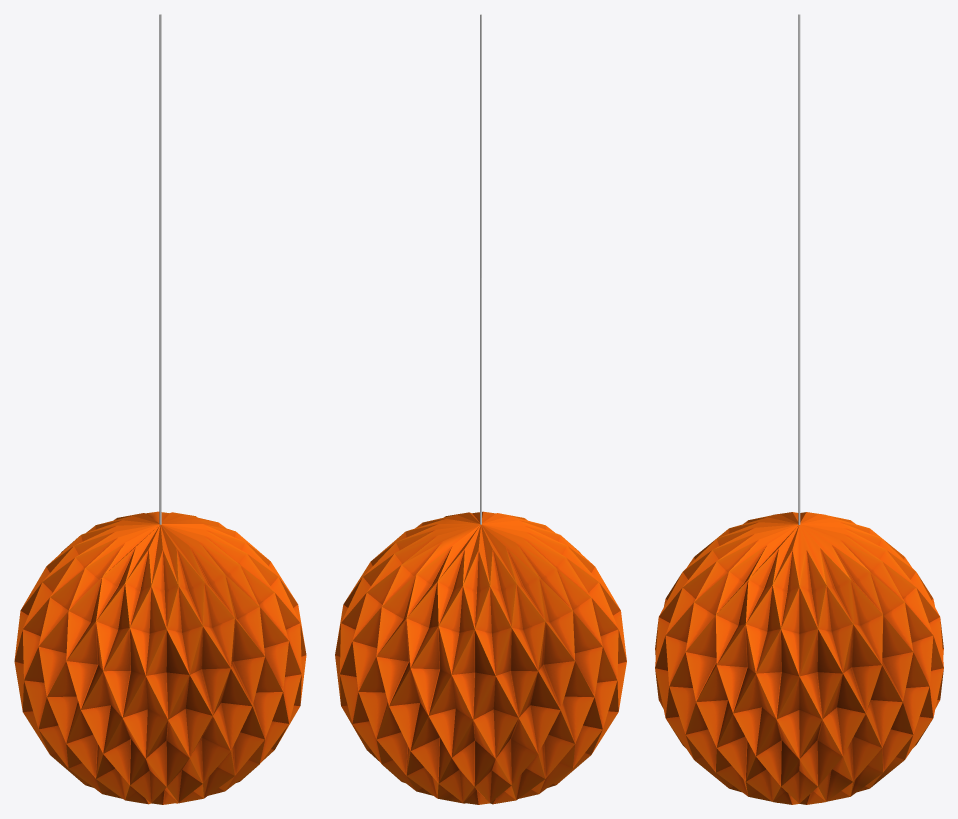
Rendered from PartyHangings01D_2.FBX.
3 views of the same model, side by side, from view 1: azimuth 30°, elevation 25°; view 2: azimuth 150°, elevation 25°; view 3: azimuth 270°, elevation 25° (orthographic).
Visible parts, largest first — view 1: PartyHangings01D_2; view 2: PartyHangings01D_2; view 3: PartyHangings01D_2.
Part boxes in pixels (x1,y1,x2,y2): PartyHangings01D_2: (14, 14, 306, 804); PartyHangings01D_2: (335, 14, 626, 804); PartyHangings01D_2: (655, 14, 943, 804).
Size of what is drawn, in the model's own units: 0.3614 by 1.07 by 0.3614.
